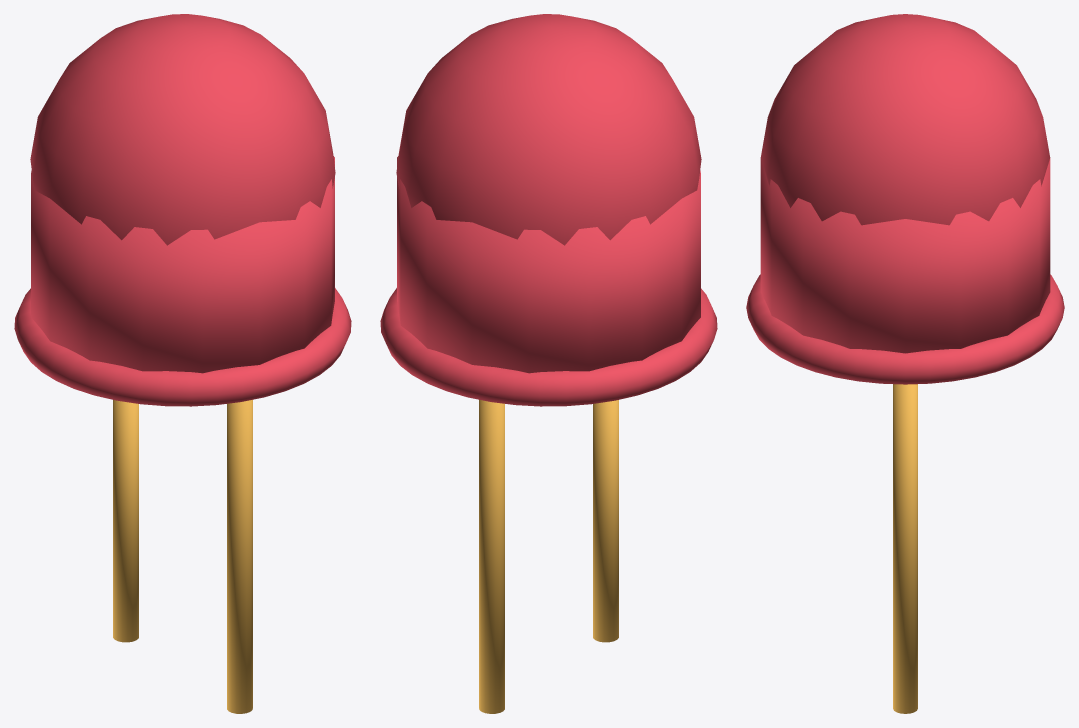
File: led-lite.glb
3 views of the same model, side by side, from view 1: azimuth 30°, elevation 25°; view 2: azimuth 150°, elevation 25°; view 3: azimuth 270°, elevation 25° (orthographic). The views are drawn at different scales.
Parts seen in each view (by area): view 1: Opaque LED lens; view 2: Opaque LED lens; view 3: Opaque LED lens.
Boxes of the visible parts, x1,y1,x2,y2 form: Opaque LED lens: (14,14,351,713); Opaque LED lens: (380,14,717,713); Opaque LED lens: (746,14,1064,713).
Bounding box in the file's own units: 0.77 × 1.75 × 0.77.
